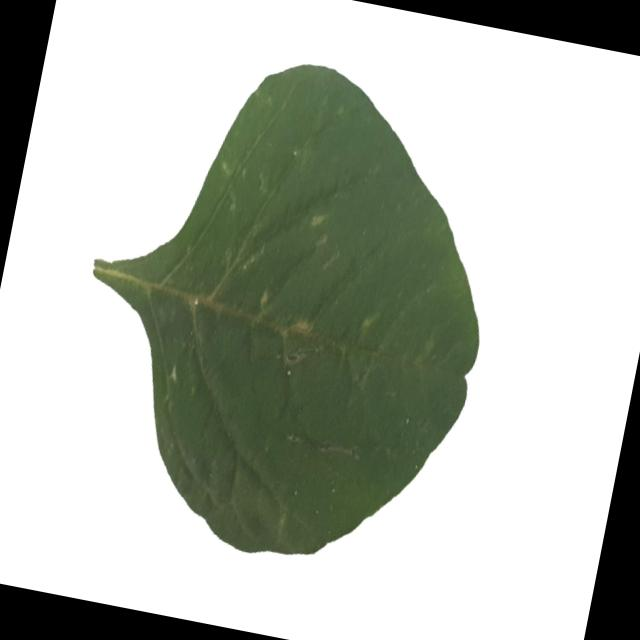Medicinal-Arive Dantu: (52, 31, 526, 586)
